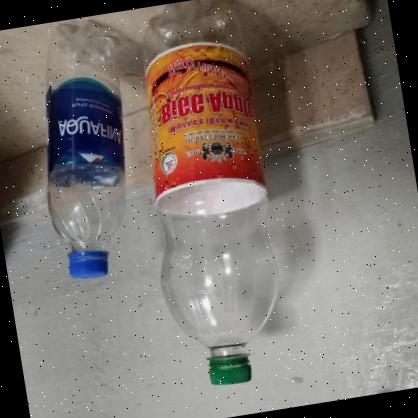bottle: (114, 0, 296, 395), (17, 23, 144, 286)
cap: (205, 349, 253, 391), (64, 245, 112, 283)
label: (138, 42, 262, 203), (33, 82, 127, 182)
